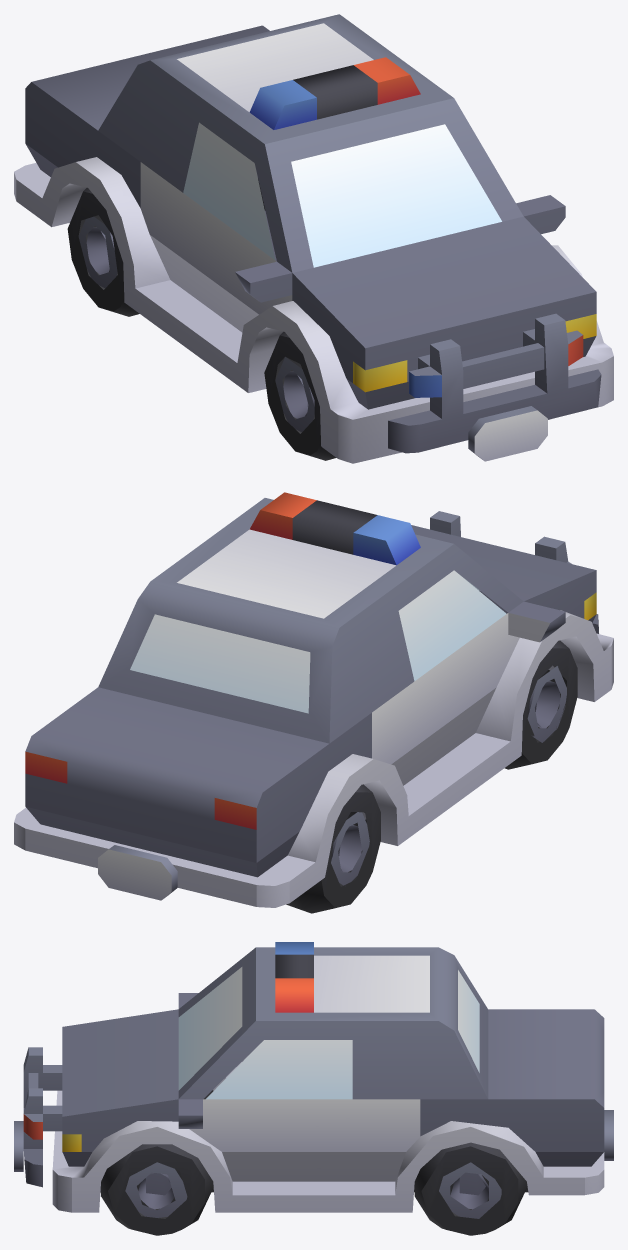
File: cc0-police-lod1.glb
3 renders of one model, top to bottom at view 1: azimuth 30°, elevation 25°; view 2: azimuth 150°, elevation 25°; view 3: azimuth 270°, elevation 25°, orthographic. The views are drawn at different scales.
Visible parts, largest first — view 1: part_0; view 2: part_0; view 3: part_0.
Part boxes in pixels (x1,y1,x2,y2): part_0: [14, 14, 613, 463]; part_0: [14, 492, 613, 913]; part_0: [14, 942, 613, 1235].
Size of the model in its own units: 1.5 by 1.3 by 3.1.
Materials: 1 (1 with a texture image).
